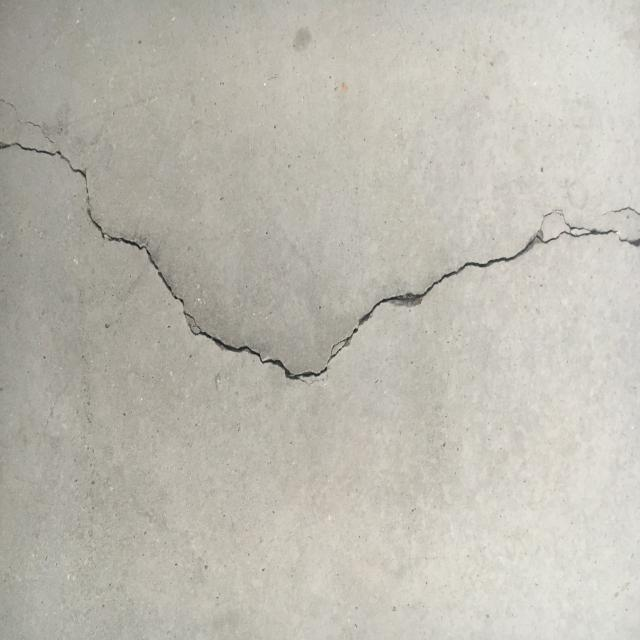Rachadura: (0, 139, 640, 385)
